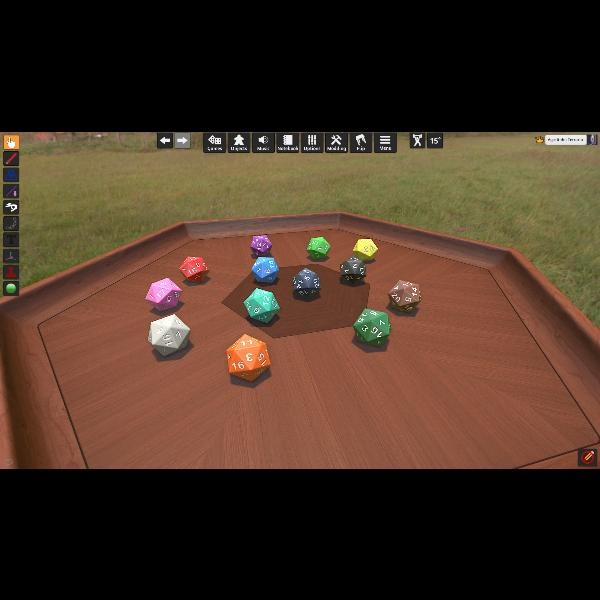d20: (227, 332, 273, 380), (148, 314, 192, 357), (352, 309, 389, 345), (244, 288, 282, 322), (145, 277, 183, 311), (387, 280, 418, 312), (180, 255, 210, 282), (340, 256, 366, 284), (251, 257, 279, 283), (293, 268, 319, 296), (306, 236, 330, 260), (352, 238, 378, 260), (252, 234, 274, 256)
